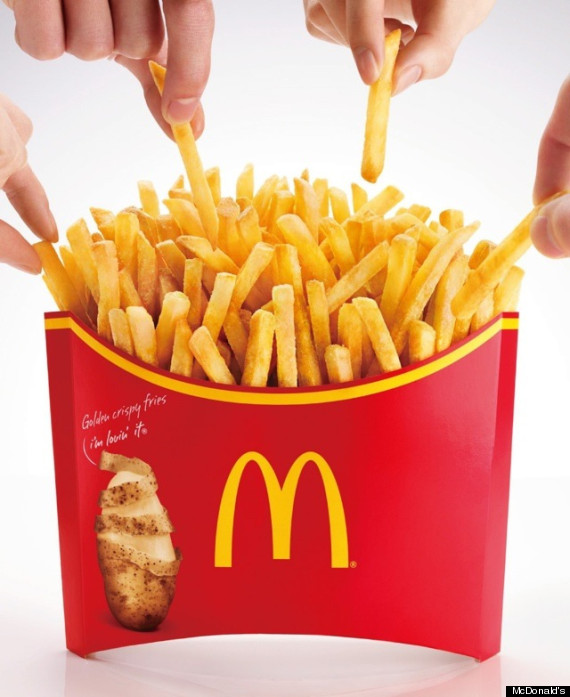mcdonalds: (202, 441, 353, 582)
